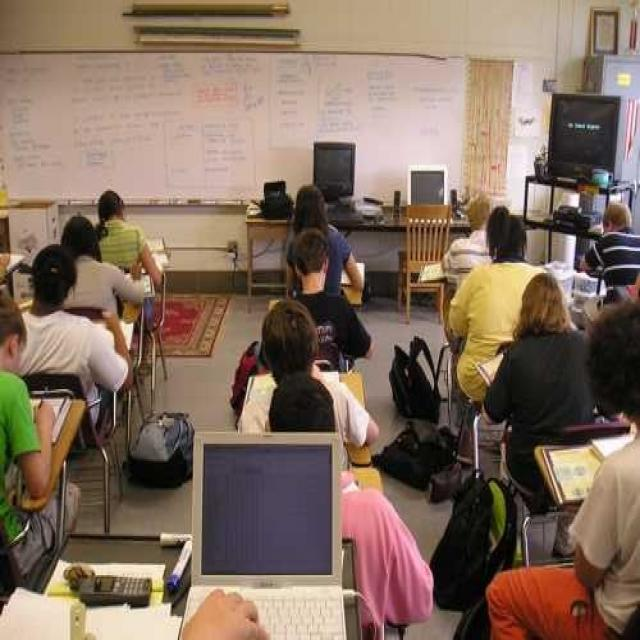laptop: (191, 431, 346, 640)
